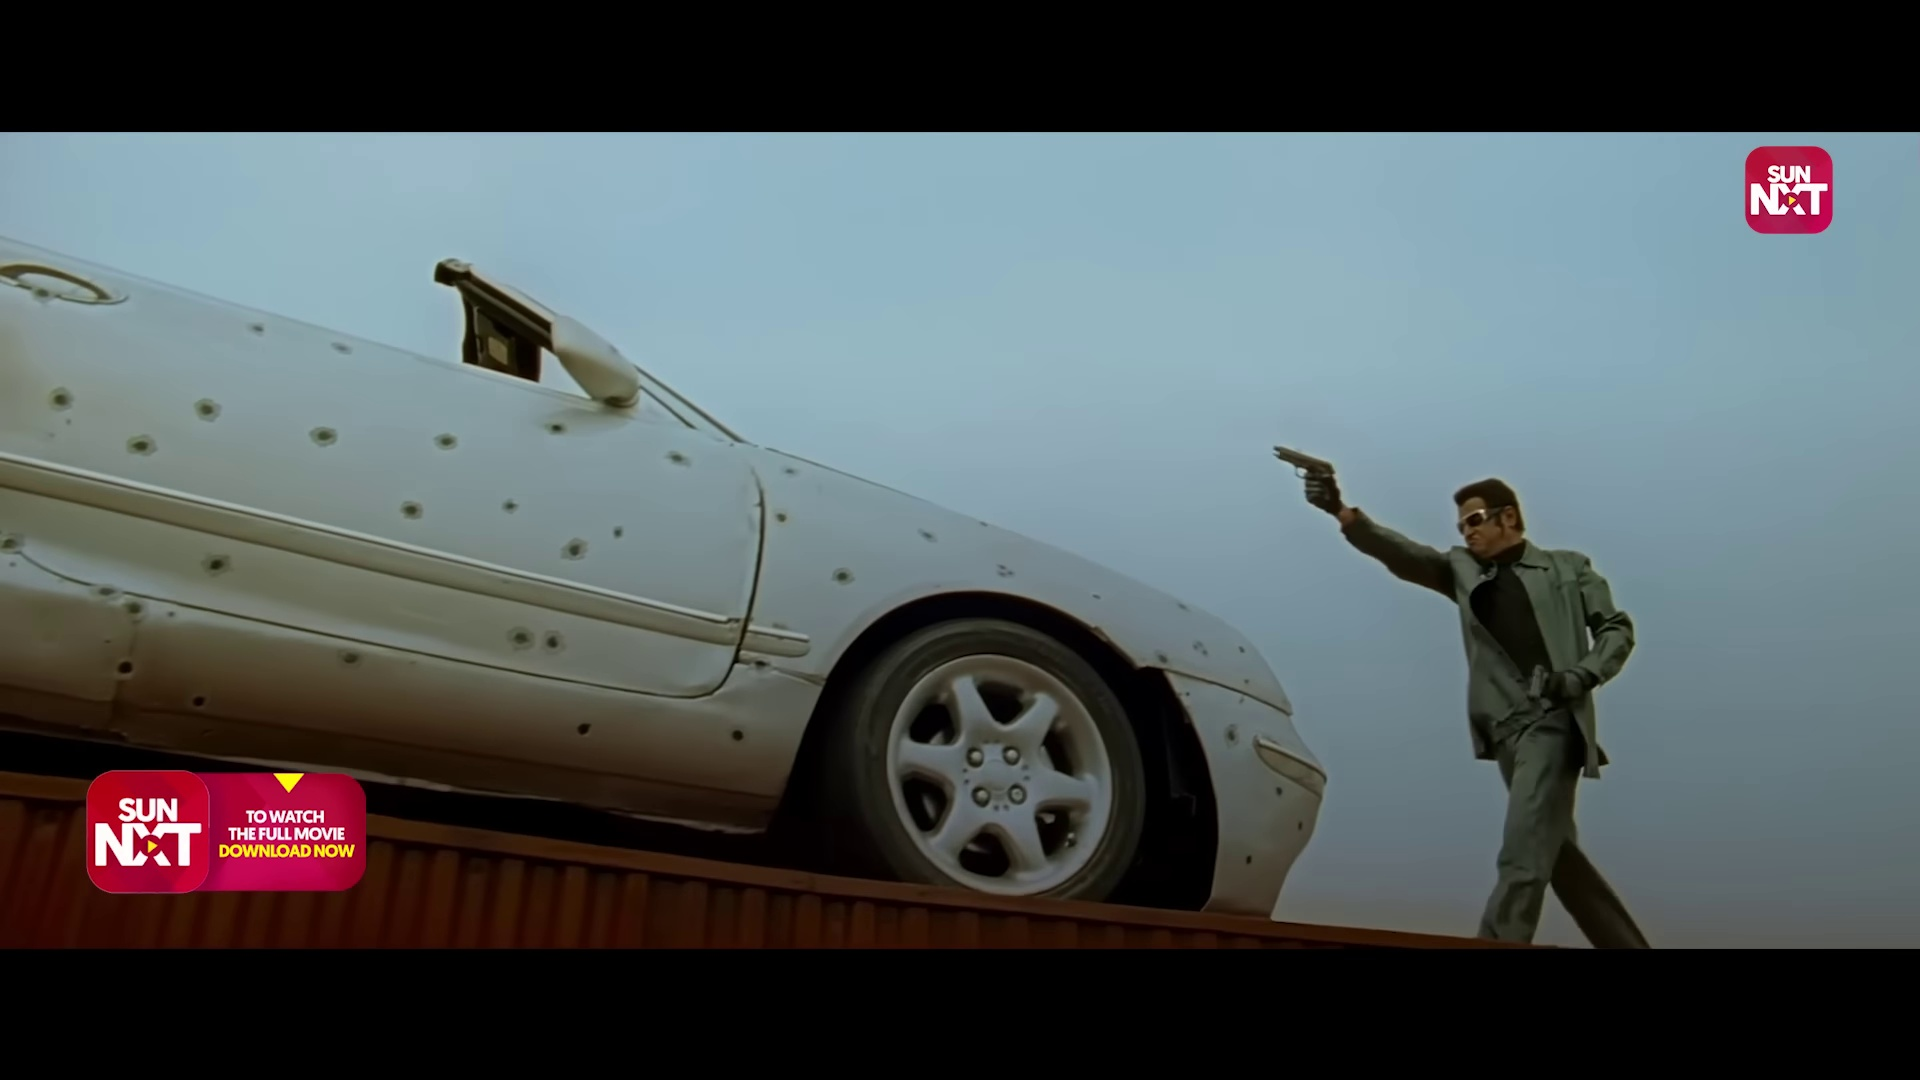gun: (1271, 439, 1341, 500)
p_w_gun: (1267, 442, 1656, 953)
